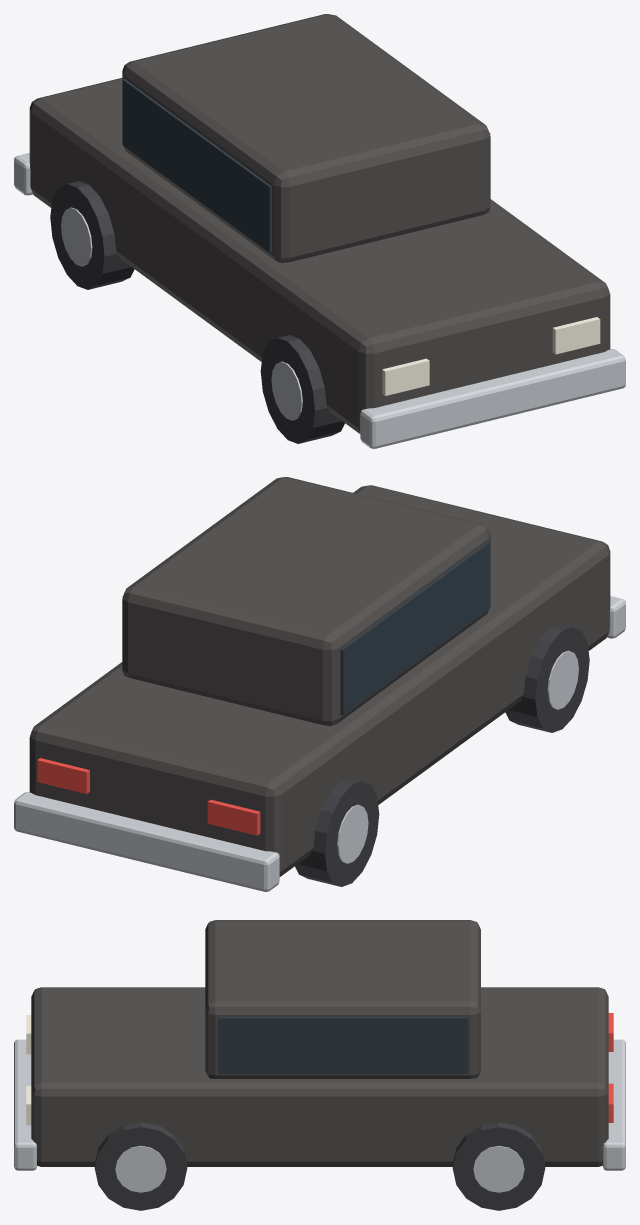
Rendered from car_wreck.glb.
3 renders of one model, top to bottom at view 1: azimuth 30°, elevation 25°; view 2: azimuth 150°, elevation 25°; view 3: azimuth 270°, elevation 25°, orthographic. The views are drawn at different scales.
Parts seen in each view (by area): view 1: Chassis, Cabin, BumperF, Windows, Wheel_-1_-1, Wheel_-1_1, Rim_-1_-1, Rim_-1_1, LightFR, LightFL, BumperR; view 2: Chassis, Cabin, BumperR, Windows, Wheel_-1_1, Wheel_-1_-1, Rim_-1_1, Rim_-1_-1, LightRL, LightRR, BumperF; view 3: Chassis, Cabin, Windows, Wheel_1_-1, Wheel_1_1, BumperR, BumperF, Rim_1_-1, Rim_1_1.
Boxes of the visible parts, bbox=[...] form: Chassis: bbox=[29, 78, 610, 433]; Cabin: bbox=[122, 14, 490, 262]; BumperF: bbox=[360, 349, 625, 448]; Windows: bbox=[122, 79, 490, 252]; Wheel_-1_-1: bbox=[260, 335, 344, 443]; Wheel_-1_1: bbox=[50, 181, 134, 289]; Rim_-1_-1: bbox=[271, 361, 302, 420]; Rim_-1_1: bbox=[61, 207, 92, 266]; LightFR: bbox=[552, 317, 600, 354]; LightFL: bbox=[382, 358, 429, 395]; BumperR: bbox=[14, 153, 32, 195]; Chassis: bbox=[29, 485, 610, 876]; Cabin: bbox=[122, 477, 490, 725]; BumperR: bbox=[14, 792, 279, 891]; Windows: bbox=[122, 542, 490, 715]; Wheel_-1_1: bbox=[295, 778, 379, 886]; Wheel_-1_-1: bbox=[505, 624, 589, 732]; Rim_-1_1: bbox=[337, 804, 368, 863]; Rim_-1_-1: bbox=[547, 650, 578, 709]; LightRL: bbox=[207, 799, 260, 835]; LightRR: bbox=[37, 758, 89, 793]; BumperF: bbox=[606, 596, 625, 638]; Chassis: bbox=[31, 987, 608, 1166]; Cabin: bbox=[205, 920, 480, 1078]; Windows: bbox=[218, 1017, 468, 1073]; Wheel_1_-1: bbox=[94, 1122, 187, 1210]; Wheel_1_1: bbox=[452, 1122, 545, 1210]; BumperR: bbox=[603, 1039, 625, 1170]; BumperF: bbox=[14, 1039, 36, 1170]; Rim_1_-1: bbox=[115, 1146, 166, 1192]; Rim_1_1: bbox=[473, 1146, 524, 1192].
Size of what is drawn, in the model's own units: 2.12 by 1.66 by 4.77.
